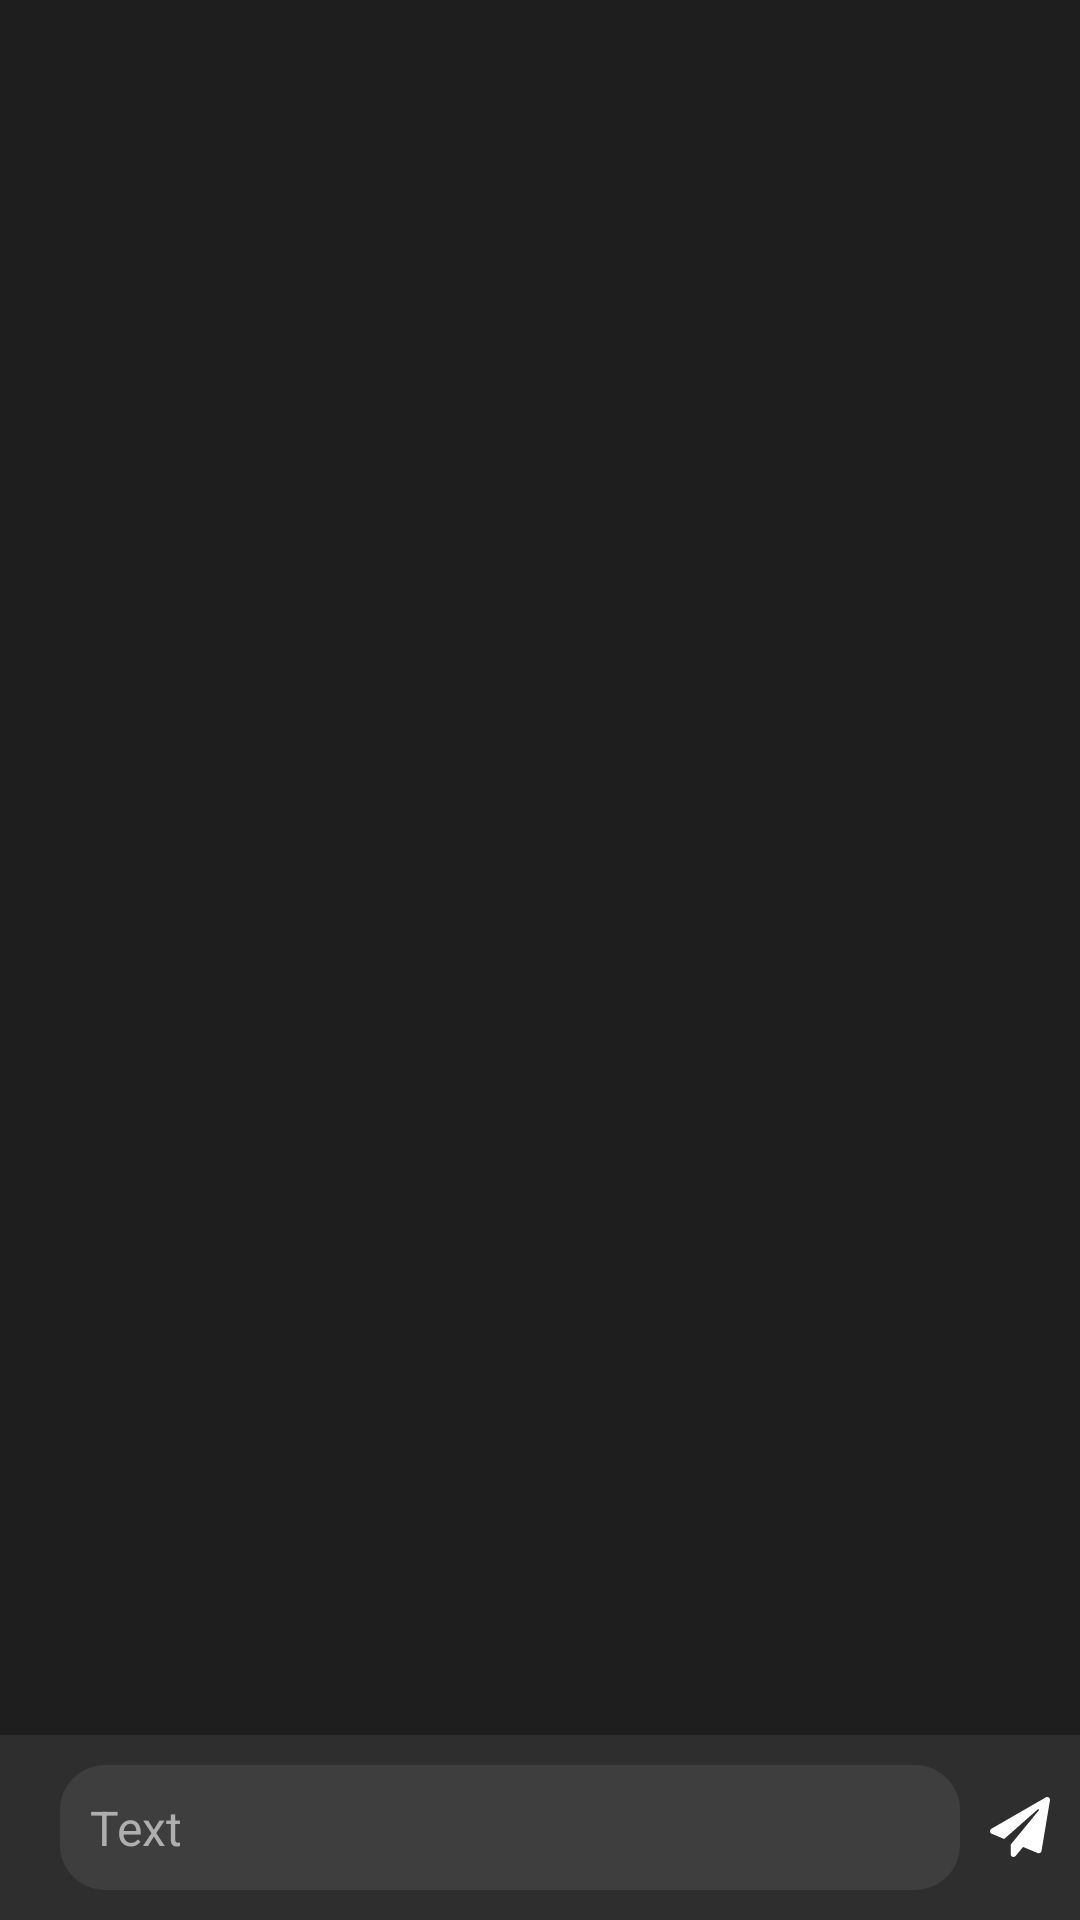

Where to tap for icons on this 1080 x 1920 app screen, as point (x, y):
paper plane: point (1020, 1827)
